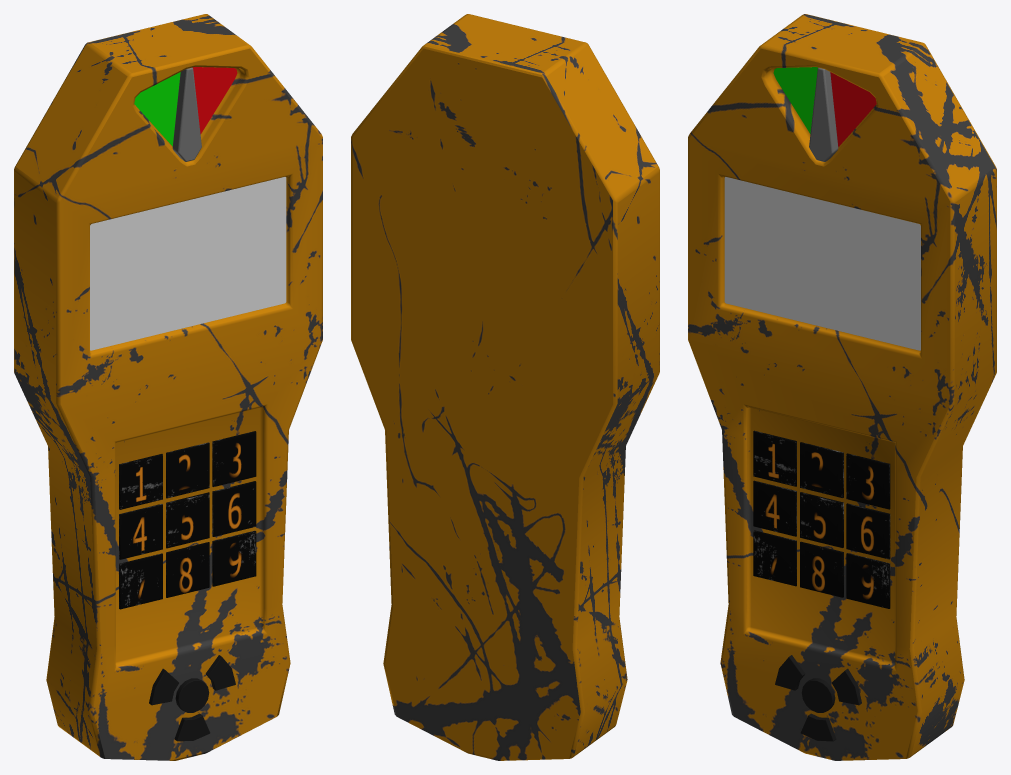
3 views of the same model, side by side, from view 1: azimuth 30°, elevation 25°; view 2: azimuth 150°, elevation 25°; view 3: azimuth 330°, elevation 25° (orthographic).
Visible parts, largest first — view 1: Geiger Counter, active-display, Buttons, Markings, Hazard Symbol, moveable-gauge; view 2: Geiger Counter; view 3: Geiger Counter, active-display, Buttons, Markings, Hazard Symbol, moveable-gauge.
Boxes of the visible parts, left/top/right/bottom form: Geiger Counter: left=14, top=14, right=322, bottom=760; active-display: left=90, top=177, right=286, bottom=350; Buttons: left=119, top=431, right=256, bottom=609; Markings: left=134, top=67, right=237, bottom=146; Hazard Symbol: left=149, top=655, right=235, bottom=741; moveable-gauge: left=172, top=67, right=201, bottom=161; Geiger Counter: left=351, top=14, right=659, bottom=760; Geiger Counter: left=688, top=14, right=996, bottom=760; active-display: left=724, top=177, right=920, bottom=350; Buttons: left=753, top=430, right=890, bottom=608; Markings: left=773, top=67, right=876, bottom=146; Hazard Symbol: left=775, top=655, right=861, bottom=741; moveable-gauge: left=809, top=67, right=838, bottom=161.
Bounding box in the file's own units: 1.32 × 3.31 × 0.4131.
7 materials, 3 textured.
